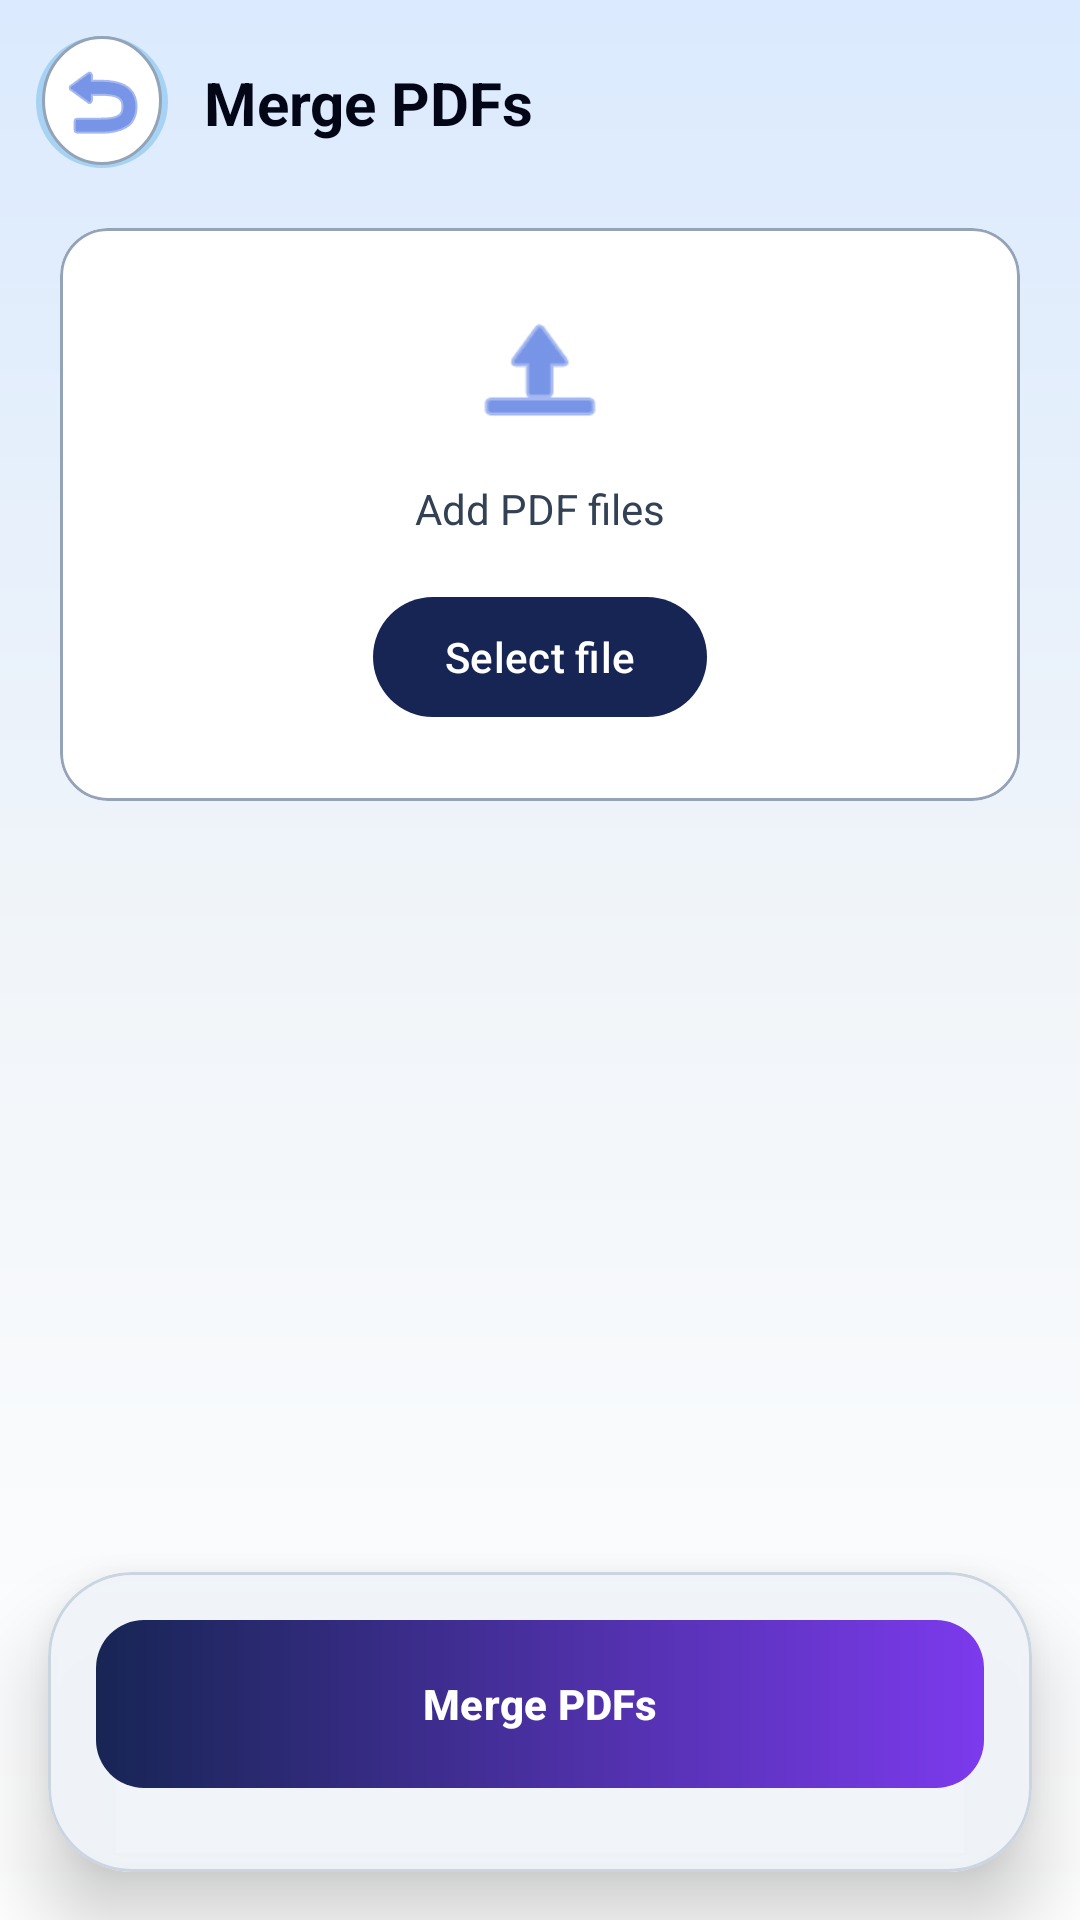

Named icons in this screenshot (1080 x 1920) and their bounding boxes, (x1,y1,x2,y2):
Back: (36,36,168,168)
upload: (484,324,596,416)
